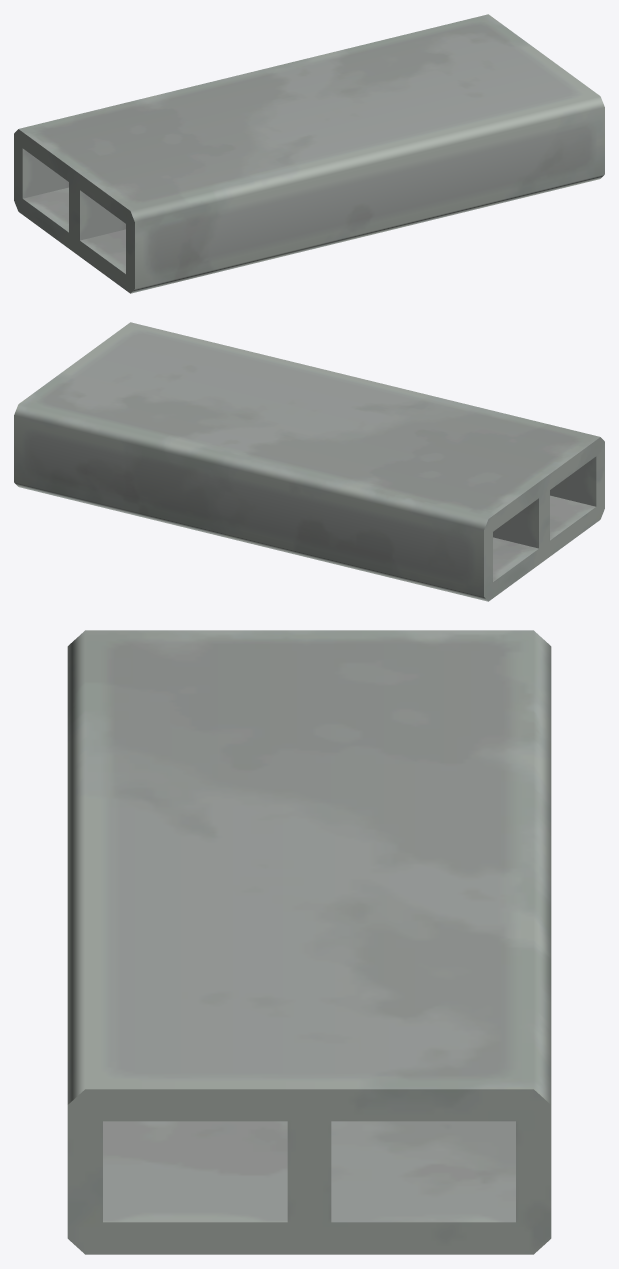
Rendered from Pfb_Brick01.fbx.
The picture shows the model from 3 angles, top to bottom: view 1: azimuth 30°, elevation 25°; view 2: azimuth 150°, elevation 25°; view 3: azimuth 270°, elevation 25°; orthographic projection. The views are drawn at different scales.
Visible parts, largest first — view 1: Mat_StreetAssets01_2; view 2: Mat_StreetAssets01_2; view 3: Mat_StreetAssets01_2.
Boxes of the visible parts, bbox=[...] form: Mat_StreetAssets01_2: bbox=[14, 14, 604, 293]; Mat_StreetAssets01_2: bbox=[14, 322, 604, 601]; Mat_StreetAssets01_2: bbox=[67, 630, 551, 1254].
Size of the model in its own units: 2.42 by 0.4077 by 1.08.
Materials: 1 (1 with a texture image).
